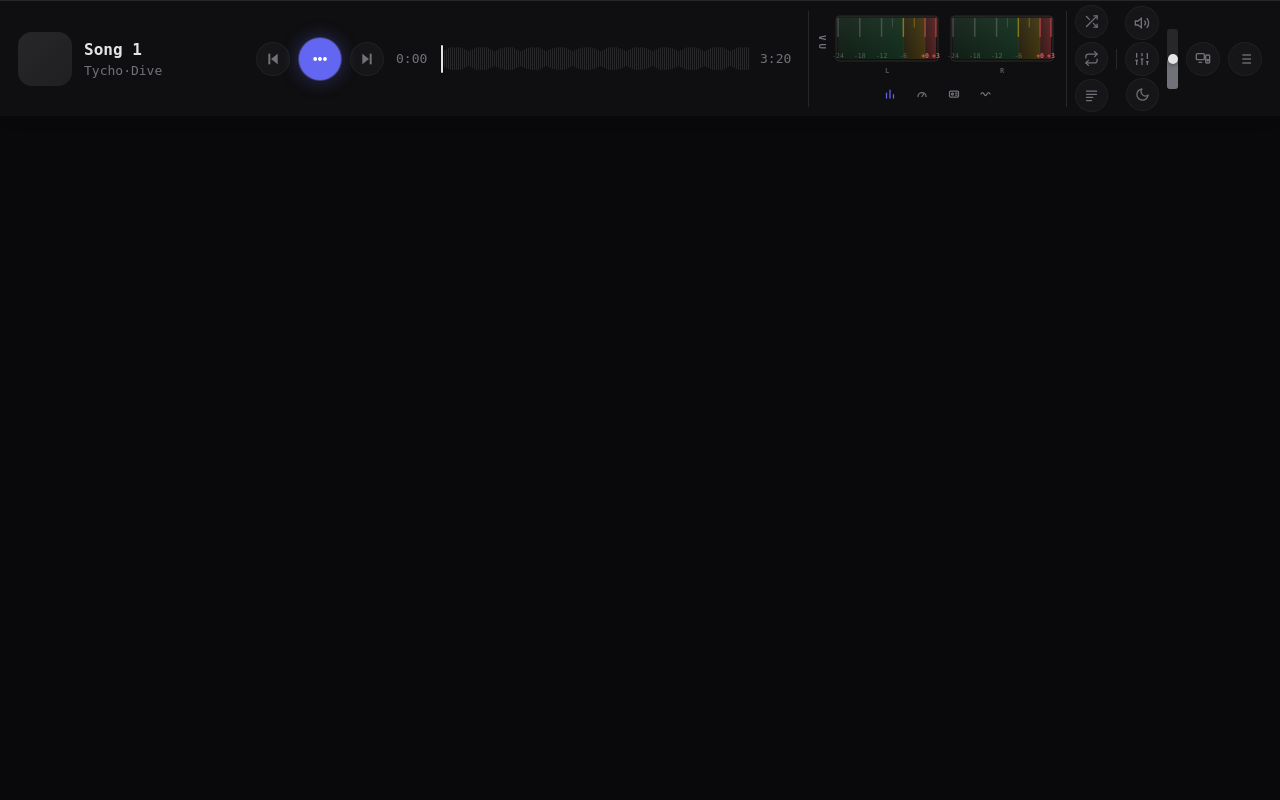
Test: Player remote mode › links admins from the empty picker to the Play On settings
Click the button named "Play on…" at (1203, 58), box [1186,42,1220,76]
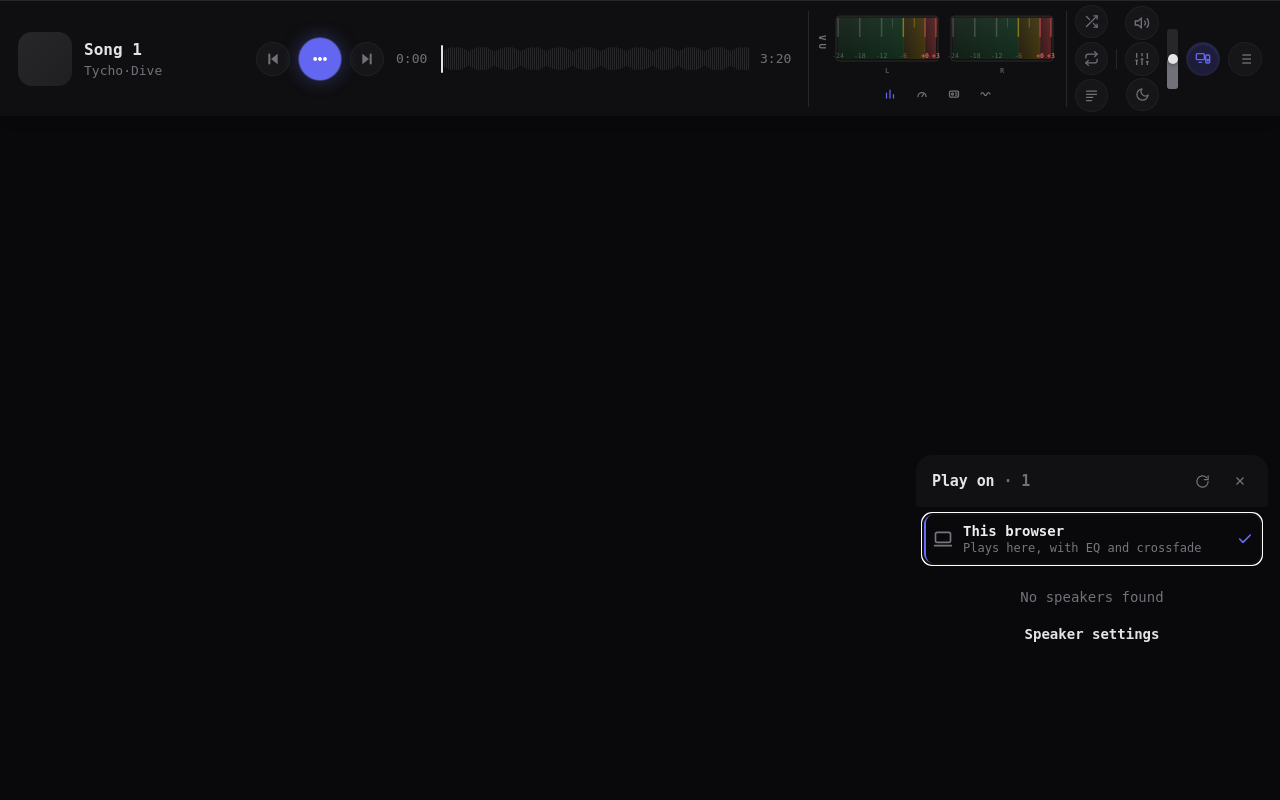
Click the button "Speaker settings" at (1092, 634), box [1014,618,1170,650]
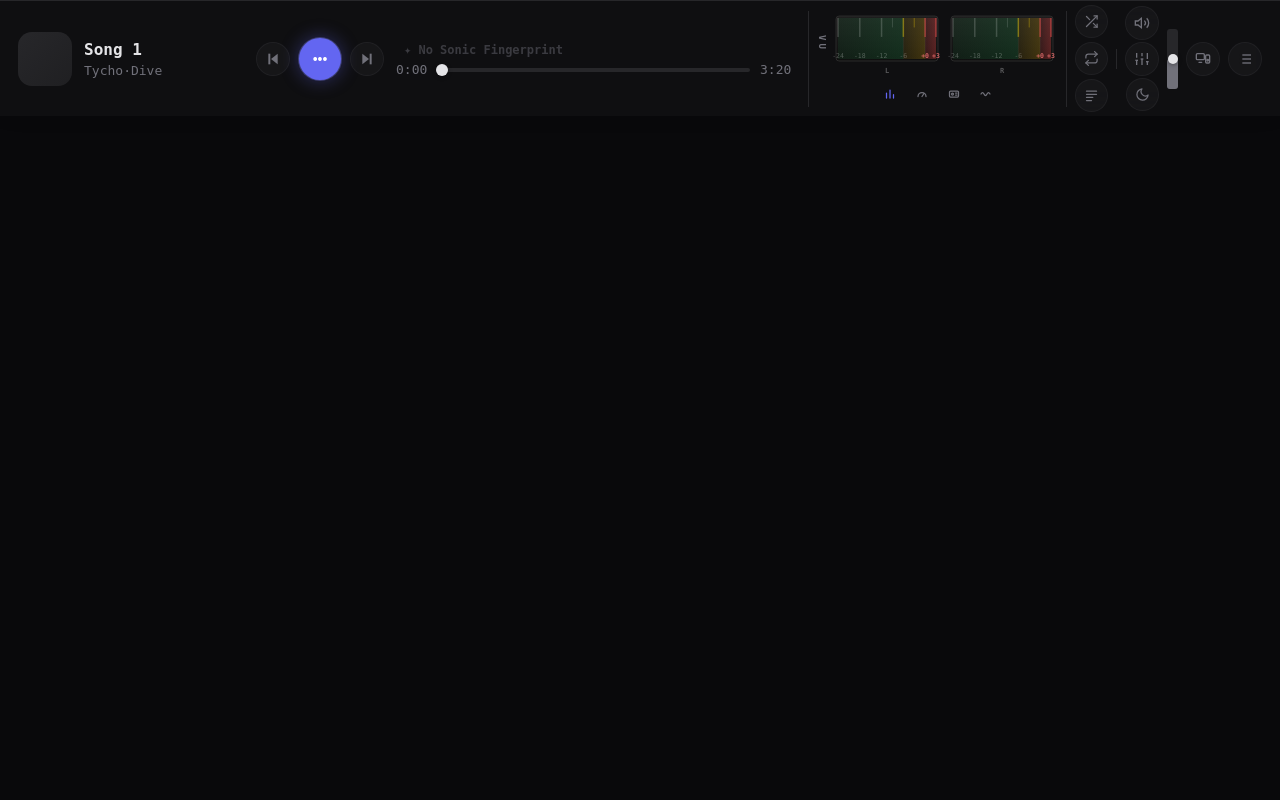
Now the dialog "Play on" is gone
